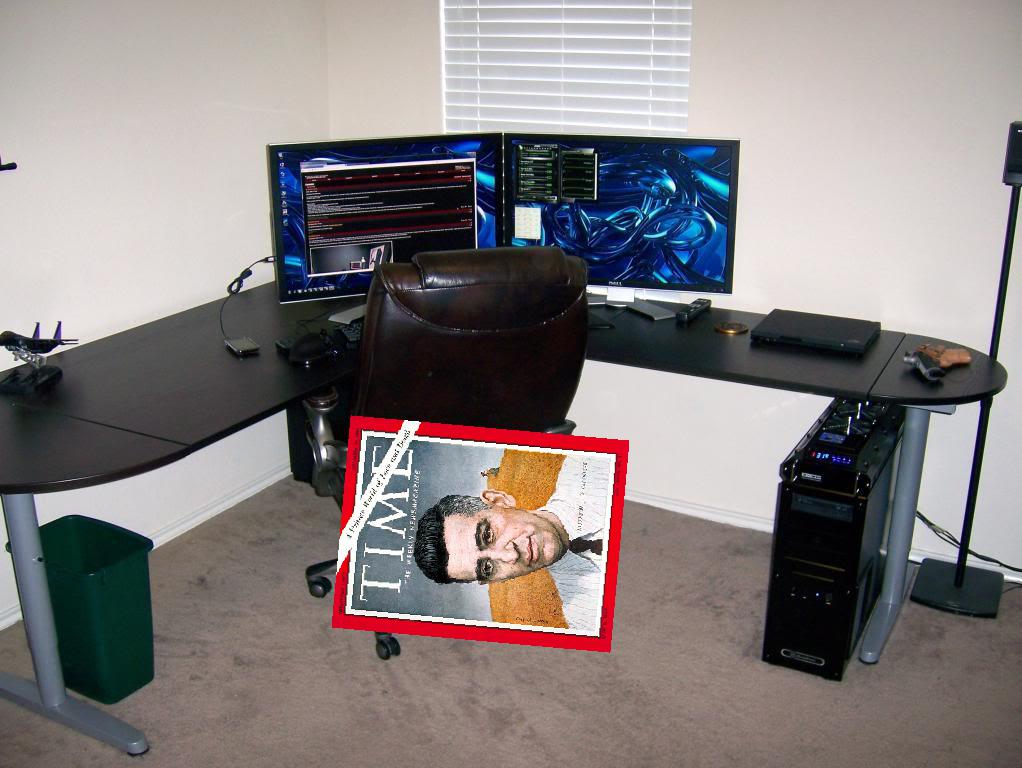times: (322, 418, 634, 660)
